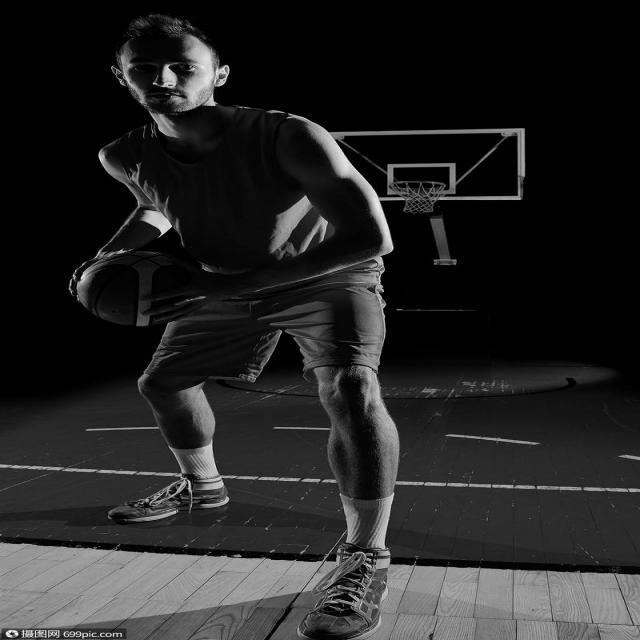rim: (79, 256, 194, 326)
